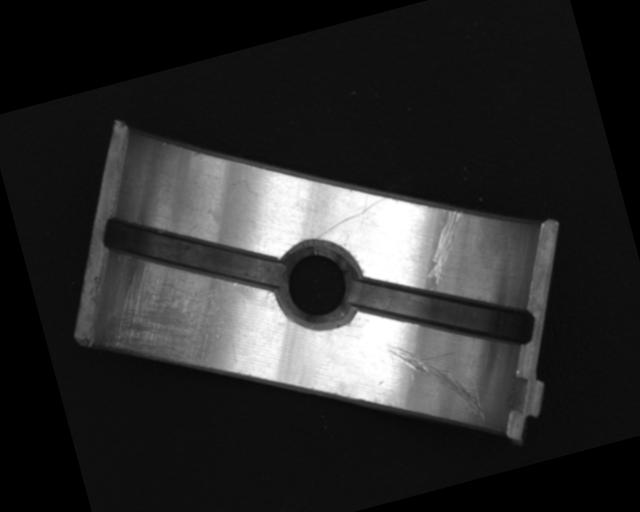gap: (98, 179, 287, 328), (350, 240, 538, 381)
hole: (263, 228, 374, 340)
nick: (387, 327, 487, 442), (410, 204, 479, 290), (309, 195, 393, 239)
scratch: (82, 245, 241, 391)
